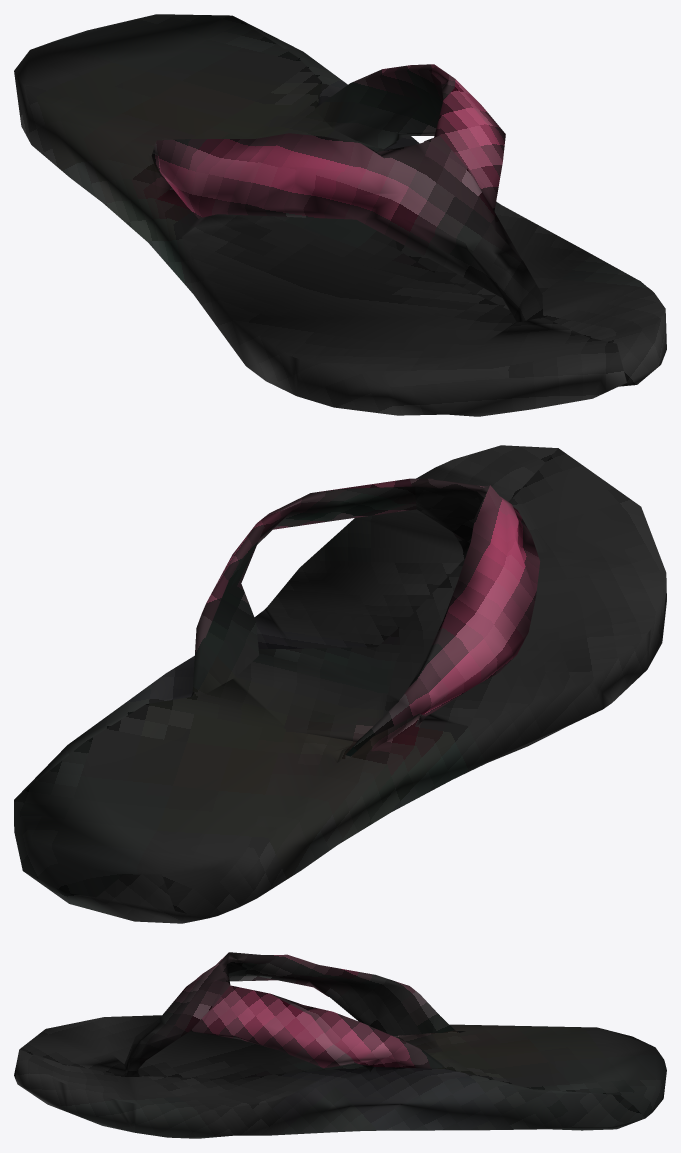
Rendered from REEF_BRAIDED_CUSHION-low.glb.
The picture shows the model from 3 angles, top to bottom: view 1: azimuth 30°, elevation 25°; view 2: azimuth 150°, elevation 25°; view 3: azimuth 270°, elevation 25°; orthographic projection. The views are drawn at different scales.
Parts seen in each view (by area): view 1: REEF_BRAIDED_CUSHION; view 2: REEF_BRAIDED_CUSHION; view 3: REEF_BRAIDED_CUSHION.
Part boxes in pixels (x1,y1,x2,y2): REEF_BRAIDED_CUSHION: (14, 14, 666, 416); REEF_BRAIDED_CUSHION: (14, 445, 666, 923); REEF_BRAIDED_CUSHION: (14, 952, 666, 1138).
Size of the model in its own units: 0.0928 by 0.056 by 0.2515.
1 material, 1 textured.
